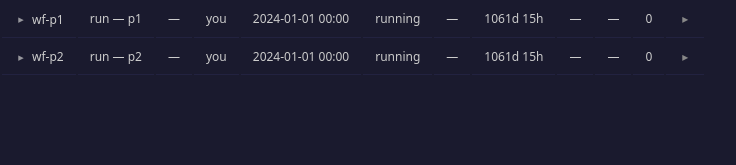
Scenario: confines an expansion failure to its own row
The image size is (736, 165).
Click the button named "Show child runs of run — p1".
click(21, 20)  # box 14,14 -> 28,25
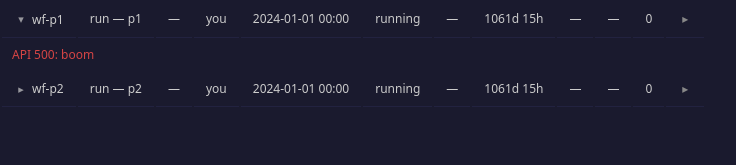
Result: the text "API 500: boom" is shown at 2,40 -> 704,70
Click the button named "Show child runs of run — p2".
click(21, 89)  # box 14,84 -> 28,94
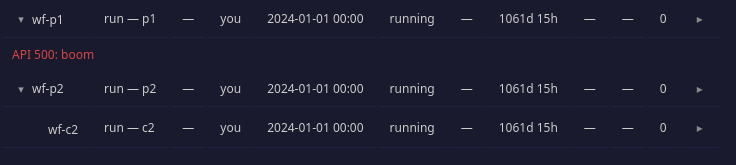
Expected: the row that starts with "wf-p2" is shown, 2,72 -> 719,107
Result: the text "wf-c2" is shown at 48,121 -> 78,138
